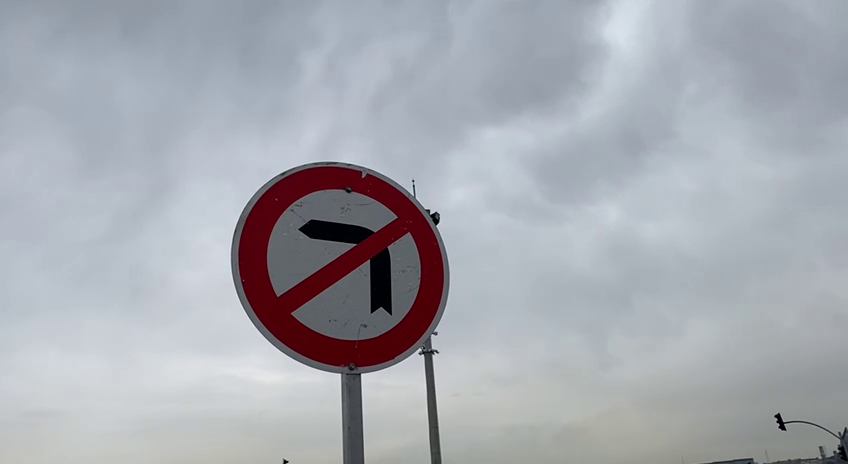noTurnLeft: (225, 155, 458, 381)
